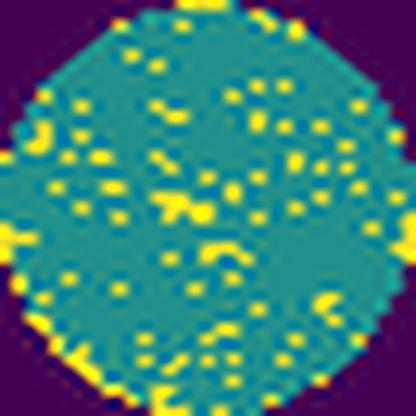Center: (149, 176, 214, 228)
